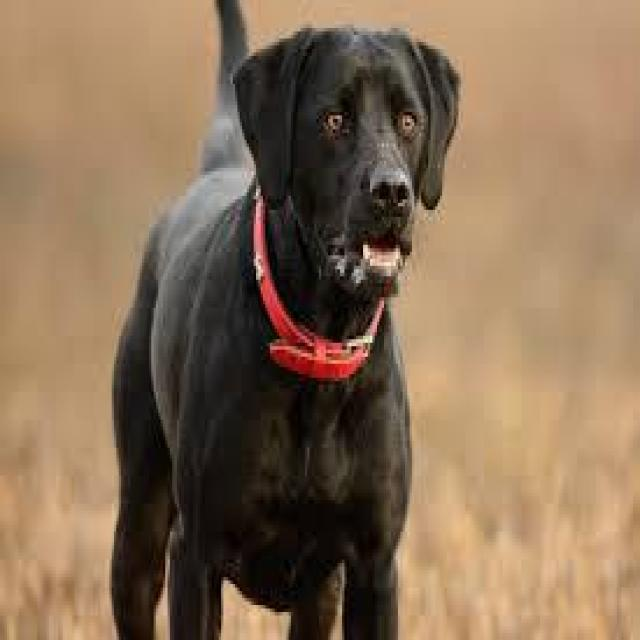Dog: (219, 12, 470, 310)
